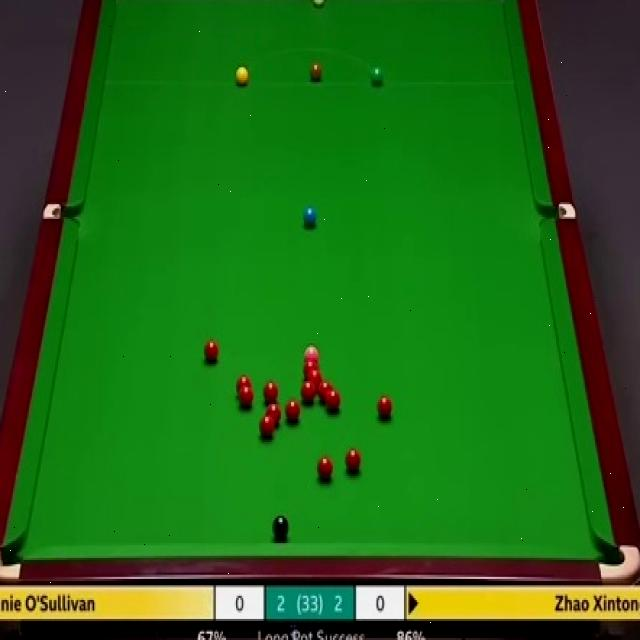black-ball: (272, 512, 289, 541)
blue-ball: (302, 205, 318, 230)
brown-ball: (309, 64, 321, 82)
green-ball: (371, 66, 383, 86)
pink-ball: (302, 343, 318, 358)
red-ball: (260, 414, 278, 442), (377, 396, 394, 419), (326, 387, 341, 412), (239, 388, 255, 411), (286, 399, 302, 422), (345, 449, 361, 472), (317, 456, 333, 479), (204, 338, 218, 363), (236, 374, 253, 394), (268, 403, 283, 423), (264, 383, 278, 404), (304, 368, 324, 382), (299, 382, 315, 399), (319, 383, 334, 400), (302, 359, 320, 370)
white-ball: (311, 0, 325, 8)
yellow-ball: (235, 64, 250, 86)
